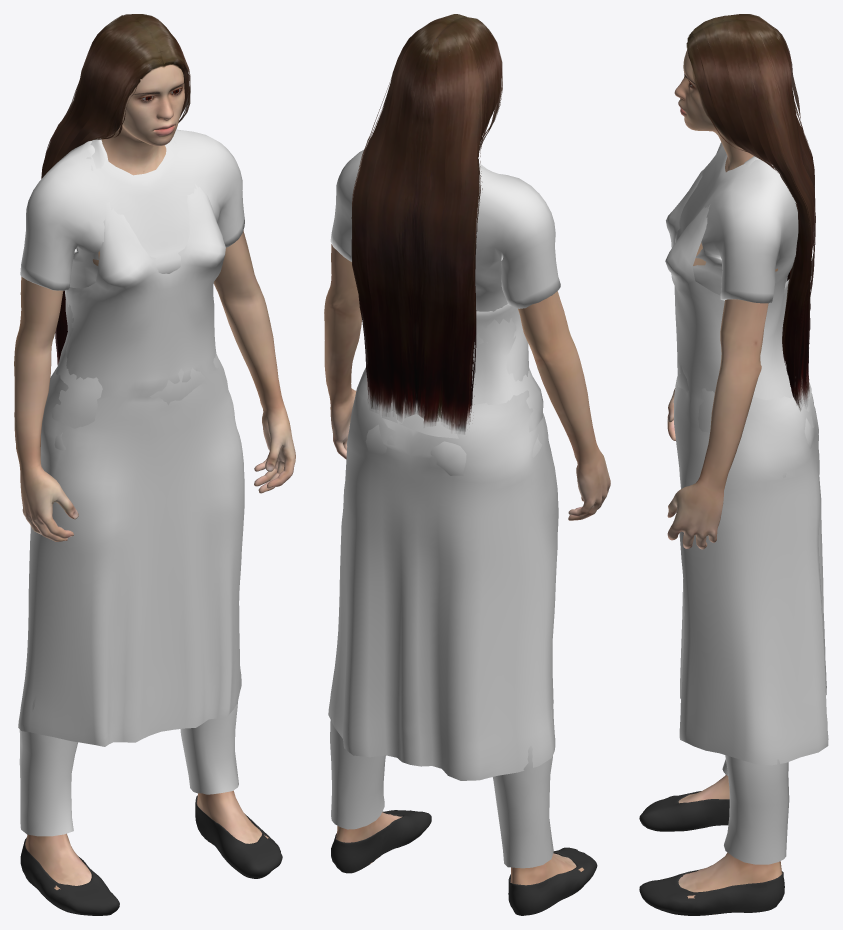
The model's file is mujer.glb.
The picture shows the model from 3 angles, left to right: view 1: azimuth 30°, elevation 25°; view 2: azimuth 150°, elevation 25°; view 3: azimuth 270°, elevation 25°; orthographic projection.
Visible parts, largest first — view 1: vestido, cuerpo, camiseta, pelo, pantalon, zapatos; view 2: vestido, pelo, camiseta, cuerpo, pantalon, zapatos; view 3: vestido, pelo, camiseta, cuerpo, zapatos, pantalon.
Part boxes in pixels (x1=…): vestido: x1=18, y1=136, x2=244, y2=746; cuerpo: x1=14, y1=64, x2=295, y2=889; camiseta: x1=20, y1=129, x2=244, y2=428; pelo: x1=41, y1=14, x2=190, y2=365; pantalon: x1=19, y1=432, x2=238, y2=836; zapatos: x1=20, y1=795, x2=282, y2=915; vestido: x1=328, y1=163, x2=558, y2=780; pelo: x1=351, y1=14, x2=502, y2=433; camiseta: x1=330, y1=150, x2=560, y2=438; cuerpo: x1=324, y1=244, x2=610, y2=885; pantalon: x1=330, y1=424, x2=553, y2=868; zapatos: x1=331, y1=810, x2=597, y2=915; vestido: x1=665, y1=156, x2=828, y2=765; pelo: x1=686, y1=14, x2=815, y2=410; camiseta: x1=675, y1=142, x2=811, y2=432; cuerpo: x1=667, y1=49, x2=782, y2=898; zapatos: x1=639, y1=791, x2=784, y2=915; pantalon: x1=722, y1=393, x2=813, y2=864.
Bounding box in the file's own units: 0.6368 × 1.96 × 0.3961.
11 materials, 11 textured.
